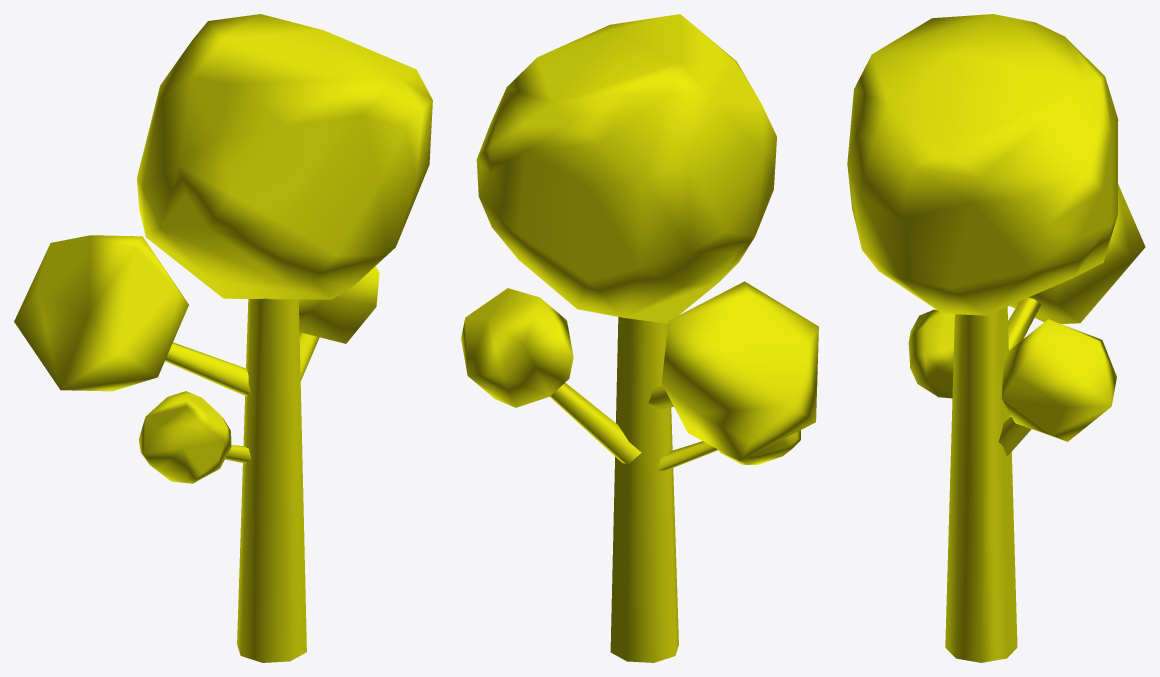
The picture shows the model from 3 angles, left to right: view 1: azimuth 30°, elevation 25°; view 2: azimuth 150°, elevation 25°; view 3: azimuth 270°, elevation 25°; orthographic projection. The views are drawn at different scales.
Visible parts, largest first — view 1: tree; view 2: tree; view 3: tree.
Part boxes in pixels (box(x1,y1,x2,y2)): tree: box(14, 14, 432, 662); tree: box(461, 14, 818, 662); tree: box(847, 14, 1145, 662).
Size of the model in its own units: 4.52 by 7.59 by 3.35.
1 material, 1 textured.
